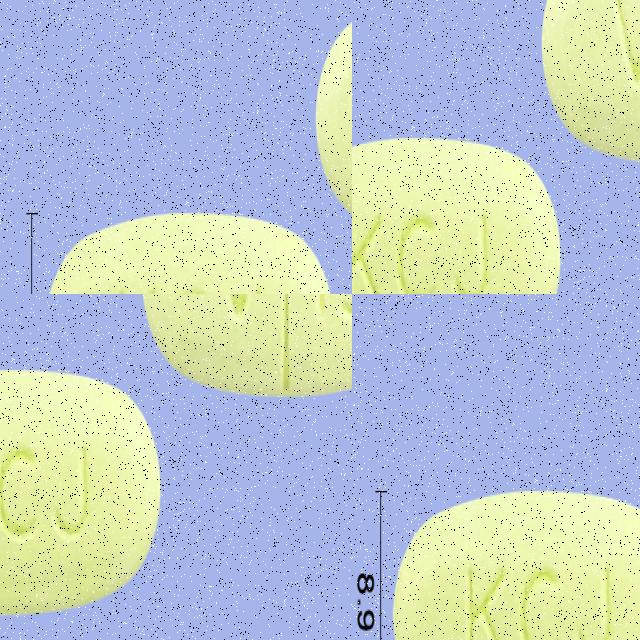Klaricid-Xl: (352, 186, 640, 294)
Levogun - 500mg: (153, 294, 352, 616), (0, 294, 113, 619)
Qsymia Cap-15mg: (267, 8, 352, 212)
Retos Tab: (392, 487, 640, 640)
